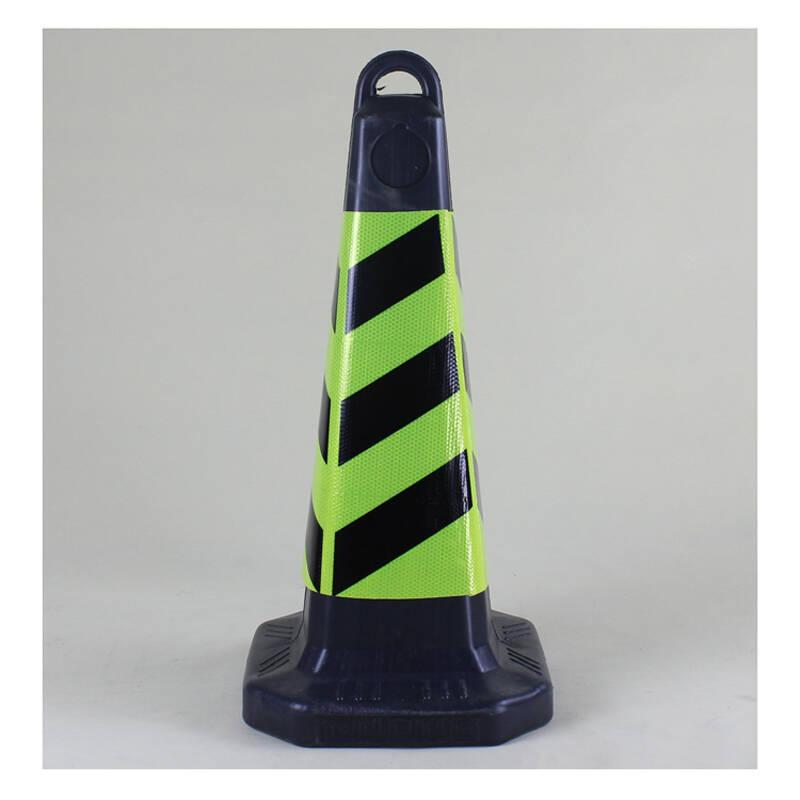sign: (221, 44, 565, 752)
